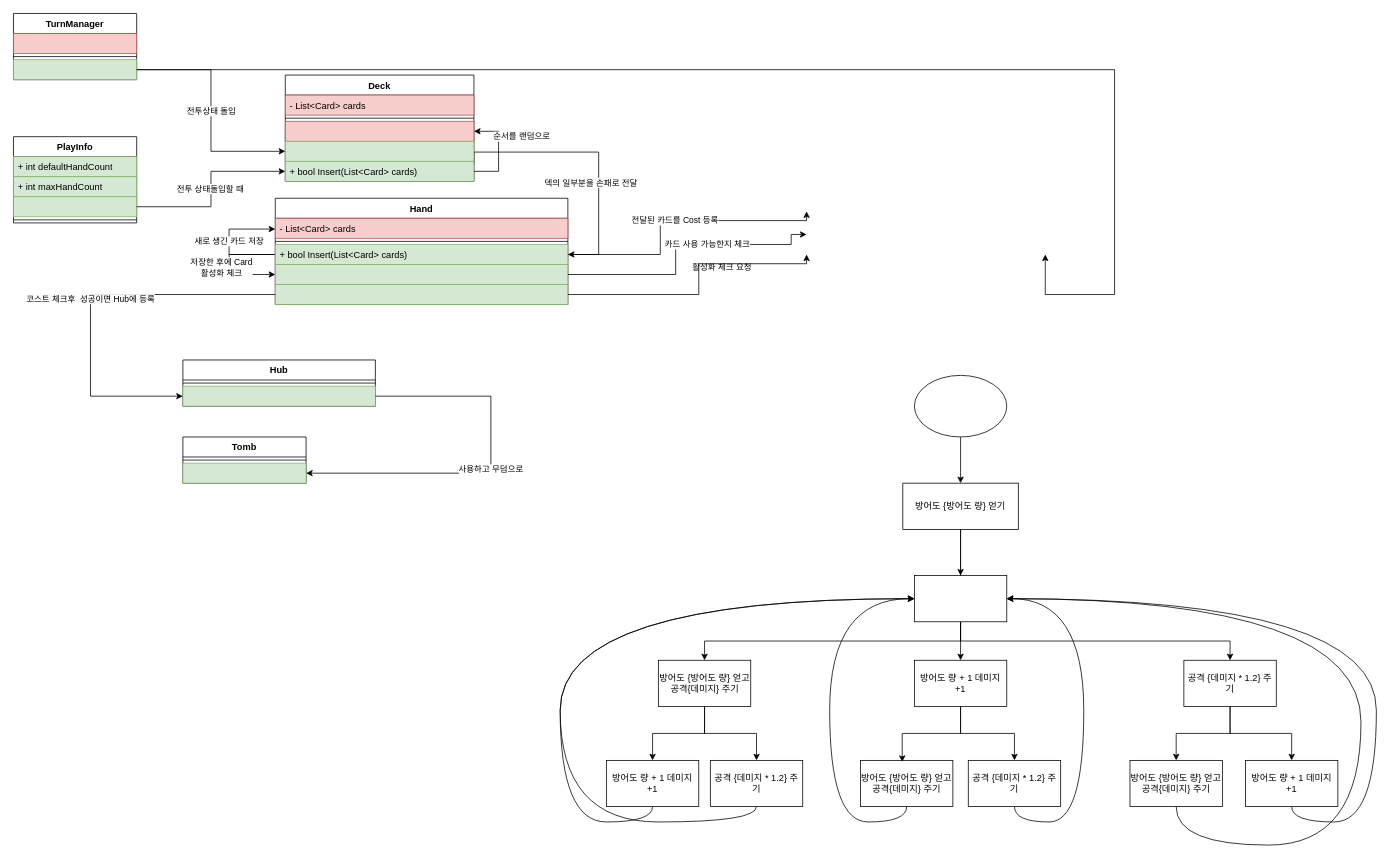
This 1390x859 diagram has some shape labels left out. The shapes that lost their labels are listed below. From the top down, each one's centre as x and y in pixels, then its label:
At (x=75, y=43): "- TurnState state".
At (x=75, y=69): "+ void TurnStart()".
At (x=379, y=131): "- bool Shuffle()".
At (x=379, y=151): "+ bool SendHand()".
At (x=75, y=206): "+ List<Card> deck".
At (x=421, y=274): "+ void CheckActivateCards()".
At (x=421, y=294): "+ bool UseCard()".
At (x=278, y=395): "+ bool Push(EffectState, Card, Target)".
At (x=960, y=406): "시작".
At (x=244, y=472): "+ UseCard(Card card)".
At (x=960, y=598): "공격 타입 설정".
